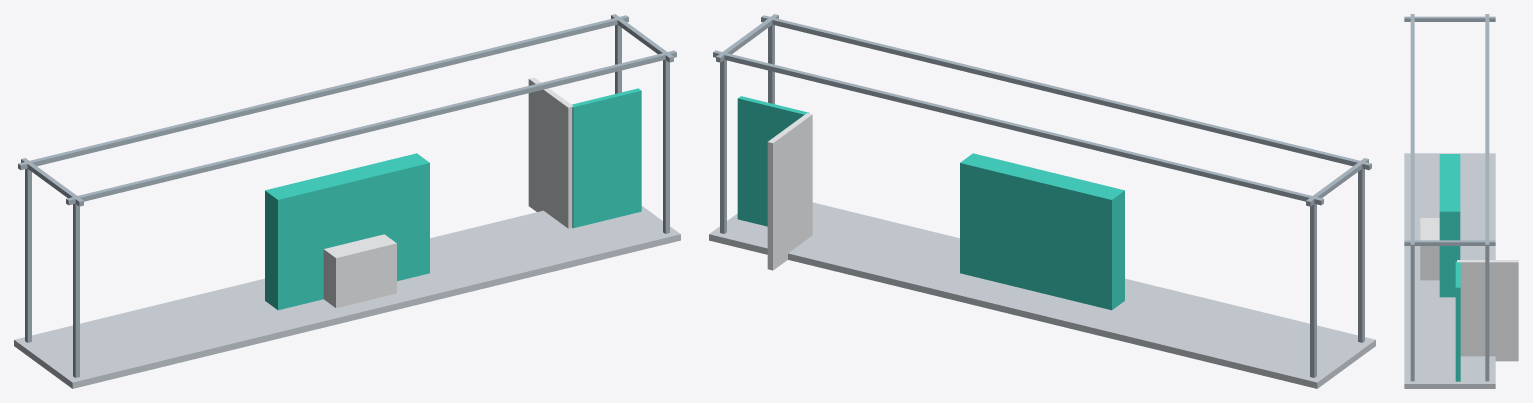
3 renders of one model, left to right at view 1: azimuth 30°, elevation 25°; view 2: azimuth 150°, elevation 25°; view 3: azimuth 270°, elevation 25°, orthographic. The views are drawn at different scales.
Visible parts, largest first — view 1: Exhibition Booth Concept; view 2: Exhibition Booth Concept; view 3: Exhibition Booth Concept.
Part boxes in pixels (box(x1,y1,x2,y2)): Exhibition Booth Concept: box(14, 14, 680, 388); Exhibition Booth Concept: box(709, 14, 1375, 388); Exhibition Booth Concept: box(1404, 14, 1518, 388).
Size of the model in its own units: 12 by 3.49 by 2.5.
